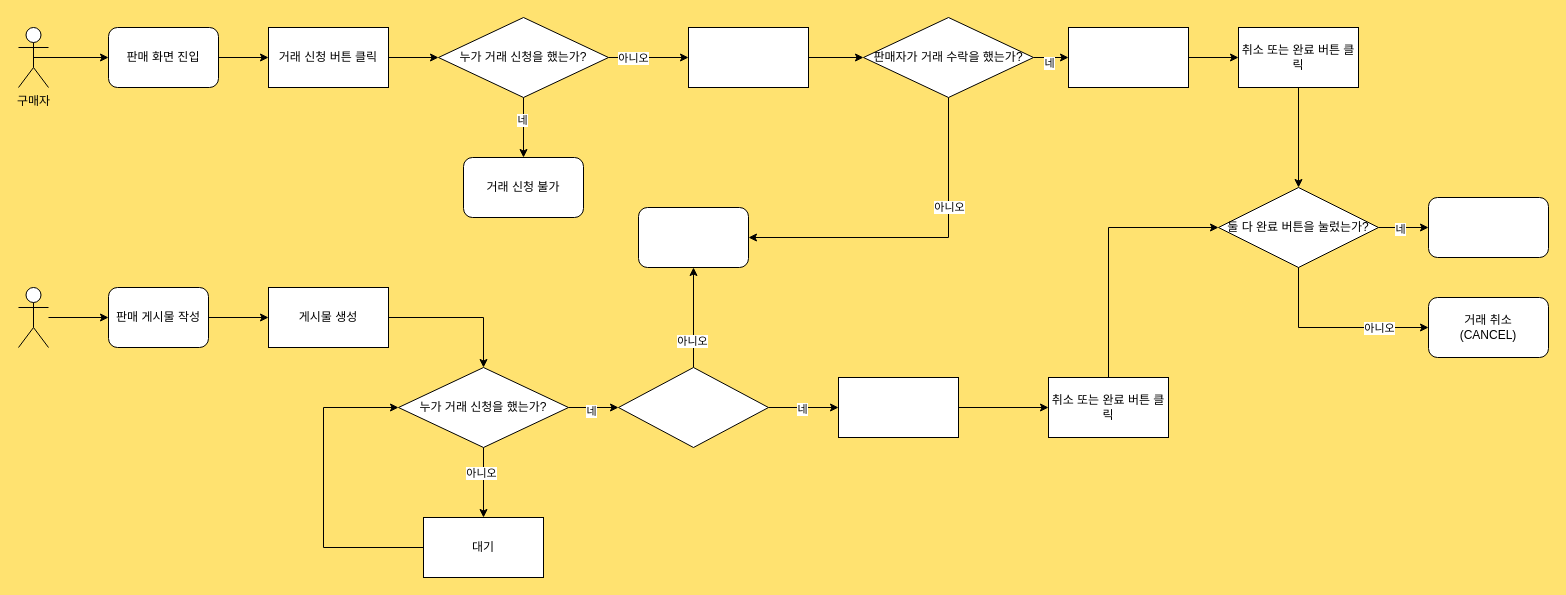
Image size: 1566x595. Some labels were removed from this diagram. The shapes that lost their labels are listed below. From the top down, each one's centre as x and y in pixels, then its label:
At [748,57]: "거래 신청 완료 (WAIT)".
At [1128,57]: "거래 중(DEALING)".
At [693,237]: "거래 거절(DENY)".
At [1488,227]: "거래 완료(COMPLETE)".
At [33,317]: "판매자".
At [693,407]: "거래 수락?".
At [898,407]: "거래중(DEALING)".
